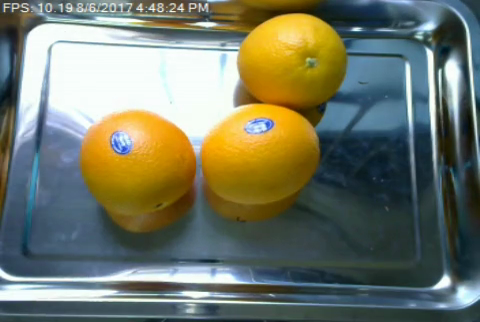Orange: (81, 110, 196, 214), (200, 104, 320, 202), (237, 11, 349, 107)
